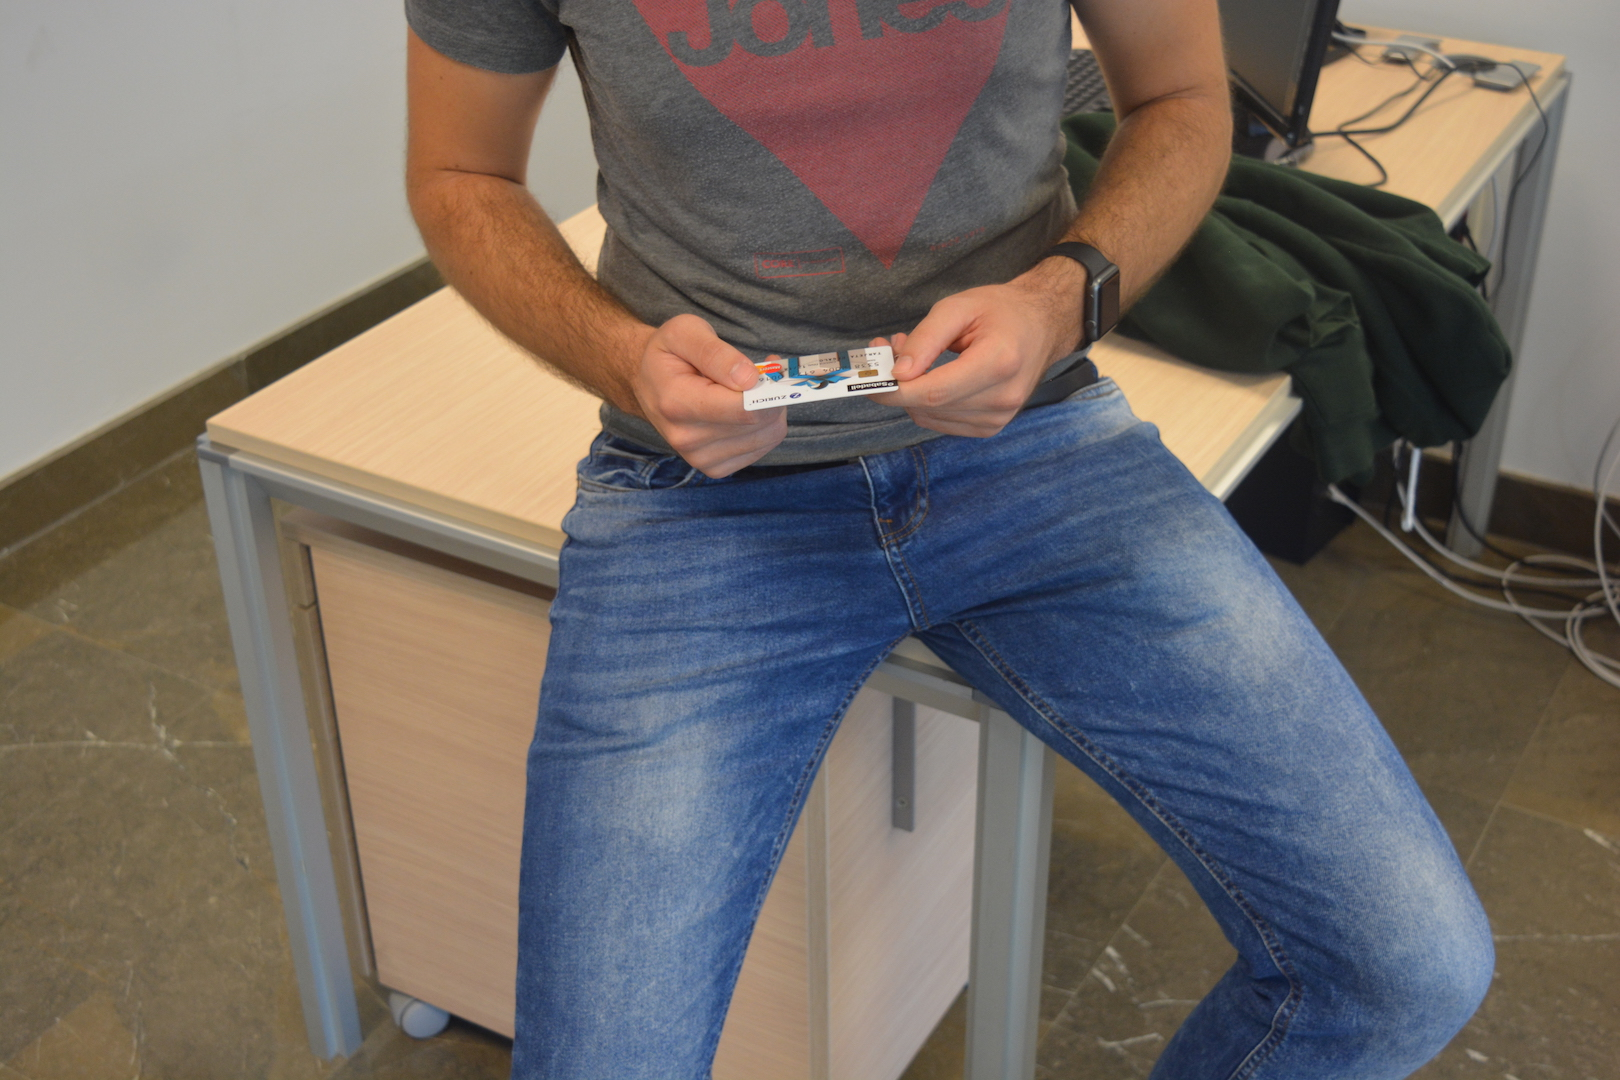tarjeta: (742, 344, 900, 412)
